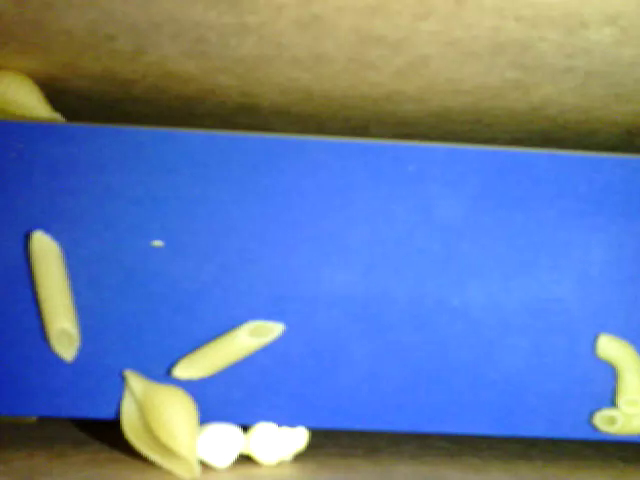elbow: (596, 331, 639, 409)
penne: (169, 318, 286, 382), (29, 228, 80, 365)
shell: (118, 367, 203, 476), (1, 71, 71, 123)
